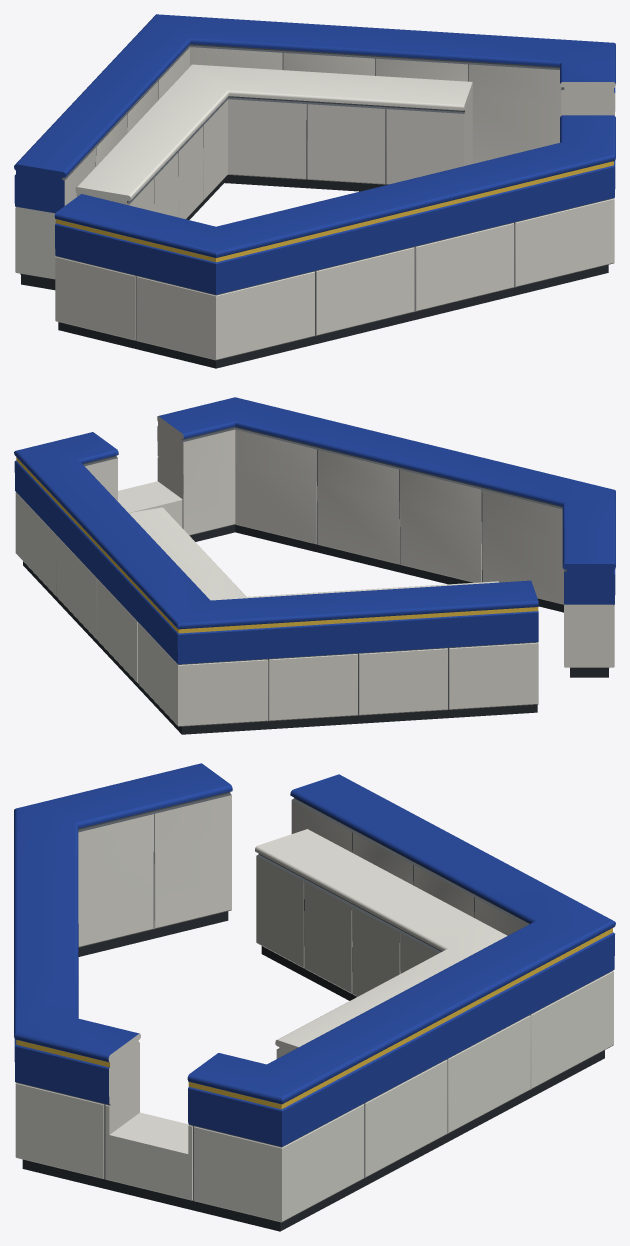
The model's file is checkout-counter-shield-rounded.glb.
3 views of the same model, one above another, from view 1: azimuth 30°, elevation 25°; view 2: azimuth 150°, elevation 25°; view 3: azimuth 270°, elevation 25° (orthographic). The views are drawn at different scales.
Parts seen in each view (by area): view 1: shield-surround-0.001, shield-work-cabinet.001; view 2: shield-surround-0.001, shield-work-cabinet.001; view 3: shield-surround-0.001, shield-work-cabinet.001.
Boxes of the visible parts, bbox=[...] form: shield-surround-0.001: bbox=[14, 14, 615, 368]; shield-work-cabinet.001: bbox=[75, 64, 472, 219]; shield-surround-0.001: bbox=[14, 397, 615, 734]; shield-work-cabinet.001: bbox=[129, 507, 498, 600]; shield-surround-0.001: bbox=[14, 763, 615, 1231]; shield-work-cabinet.001: bbox=[255, 829, 507, 1058].
Size of the model in its own units: 18.5 by 3.54 by 14.
